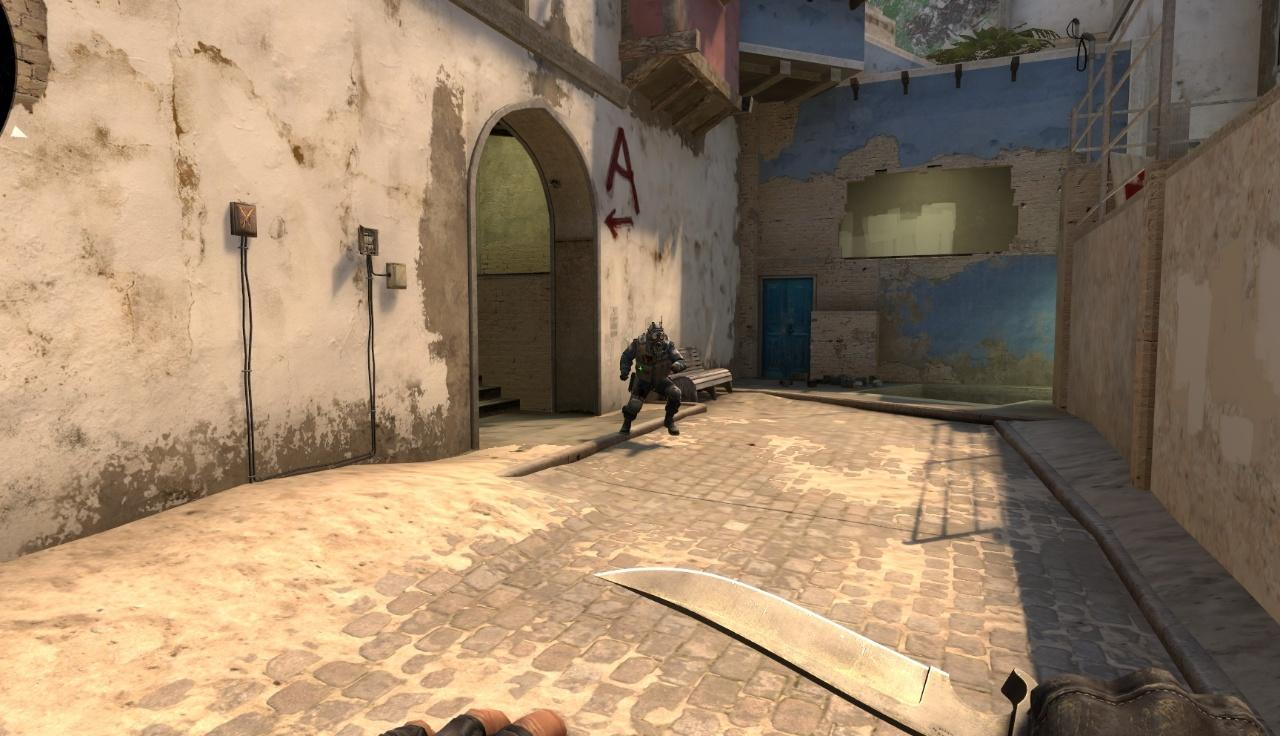ct: (620, 323, 684, 435)
cthead: (648, 323, 665, 346)
